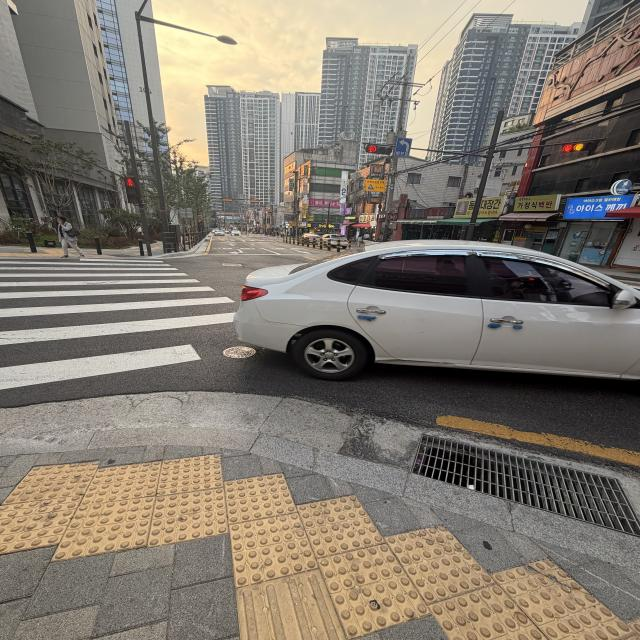car: (200, 216, 640, 432)
